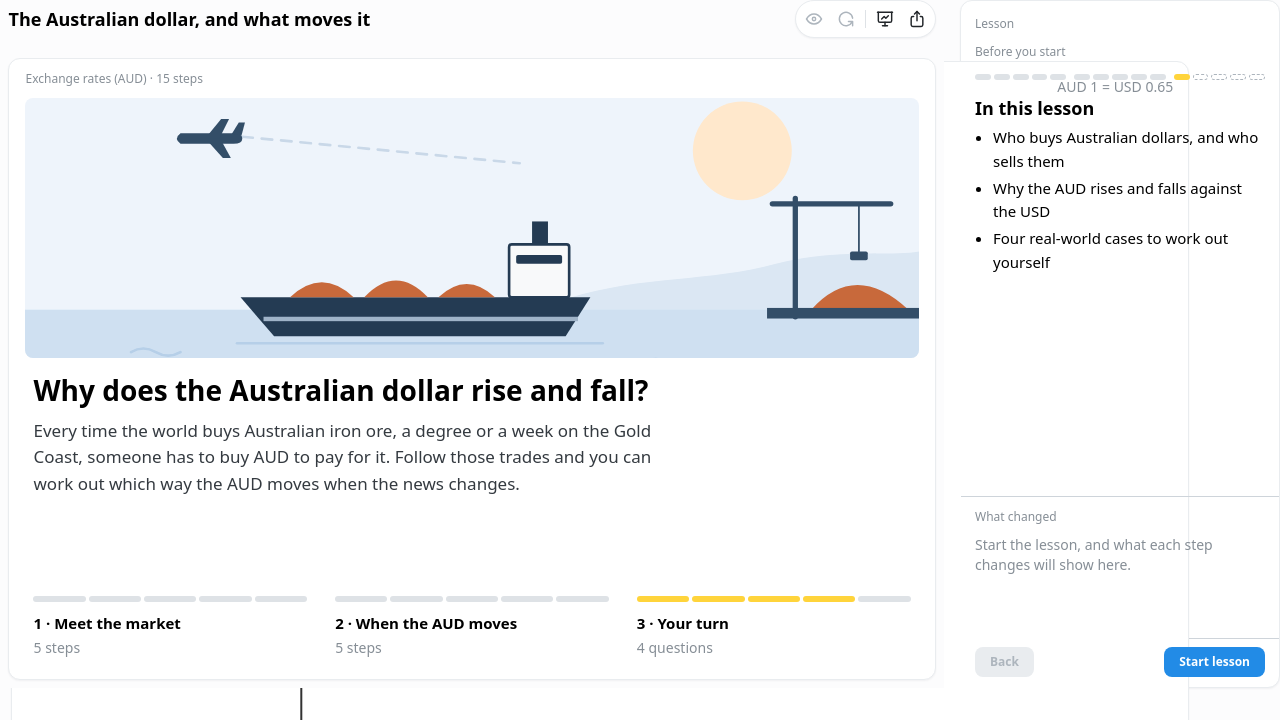
Test: the picture step › shows who needs AUD across the stage, with the diagram under it
Step 1. Click the button "Start lesson" → {"x": 1215, "y": 662}, box [1164, 647, 1265, 677]
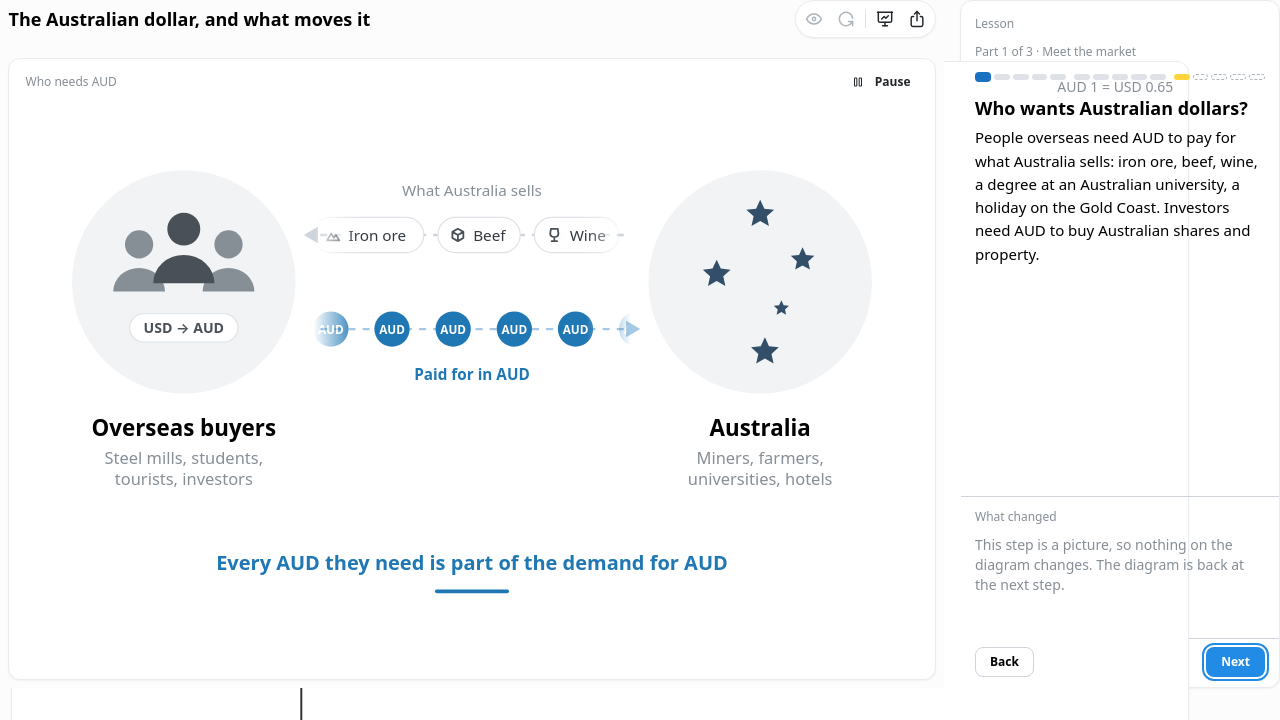
Expected: the element "Who needs AUD" does not show "People overseas need AUD"
Result: the element that starts with "Who wants Australian dollars?" is shown at [975, 96, 1248, 120]
